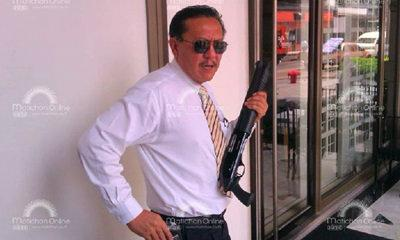criminal: (77, 4, 274, 240)
weapon: (218, 59, 274, 207)
